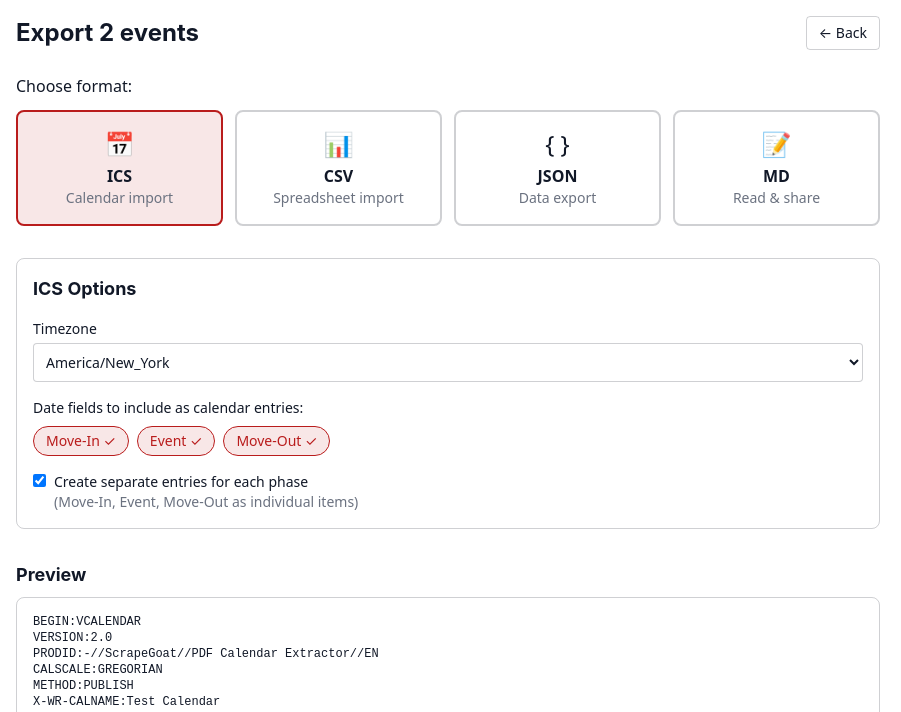
it: ExportPage › switches to MD options when MD card clicked
This screenshot has width=901, height=712.
Click the text "MD" at (776, 176), box [763,165,790,187]
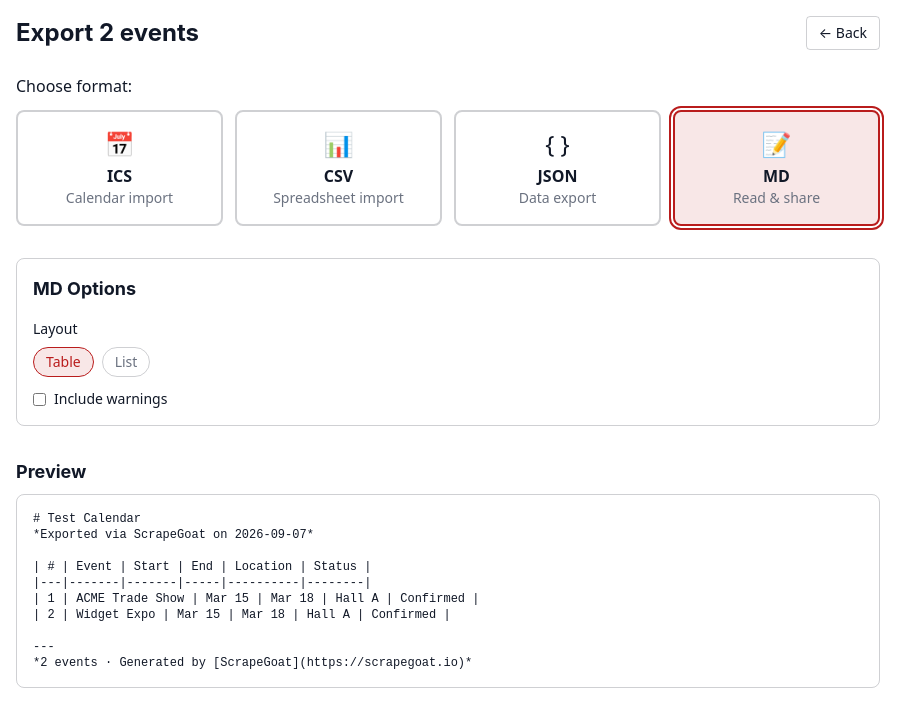
Check: the heading "MD Options" is shown, box [33,278,136,299]
